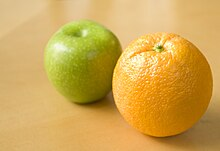orange: (111, 28, 216, 141)
